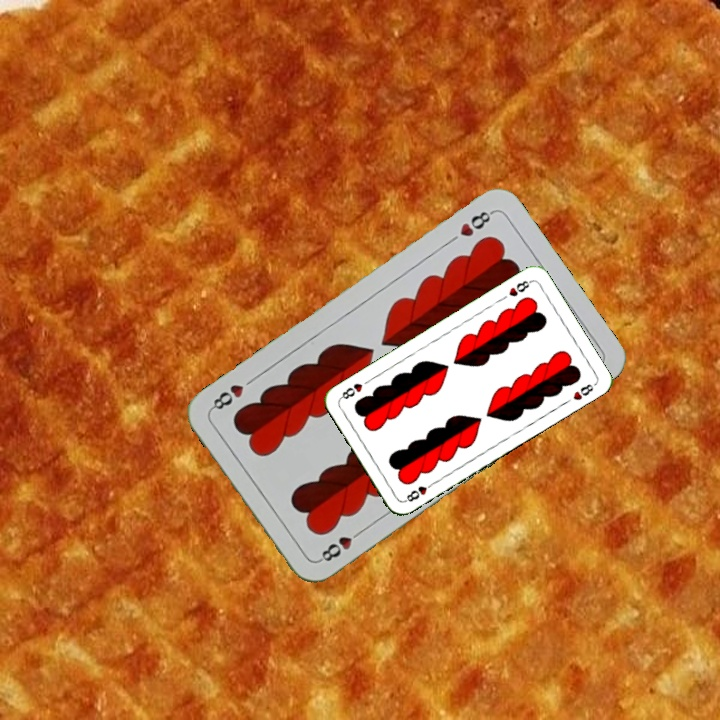H8: (314, 525, 366, 565), (455, 206, 496, 240), (400, 478, 437, 505), (505, 276, 534, 299)
